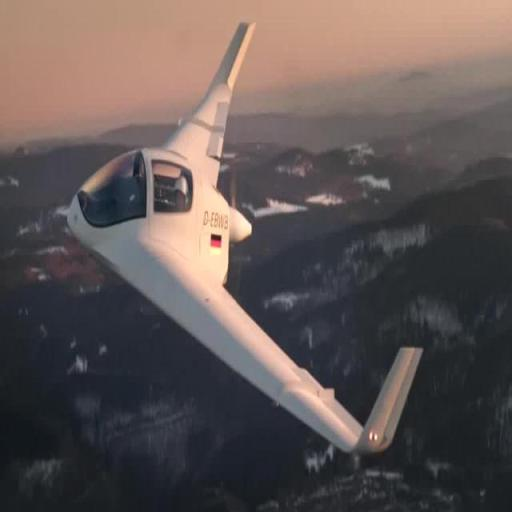uav: (65, 19, 427, 481)
